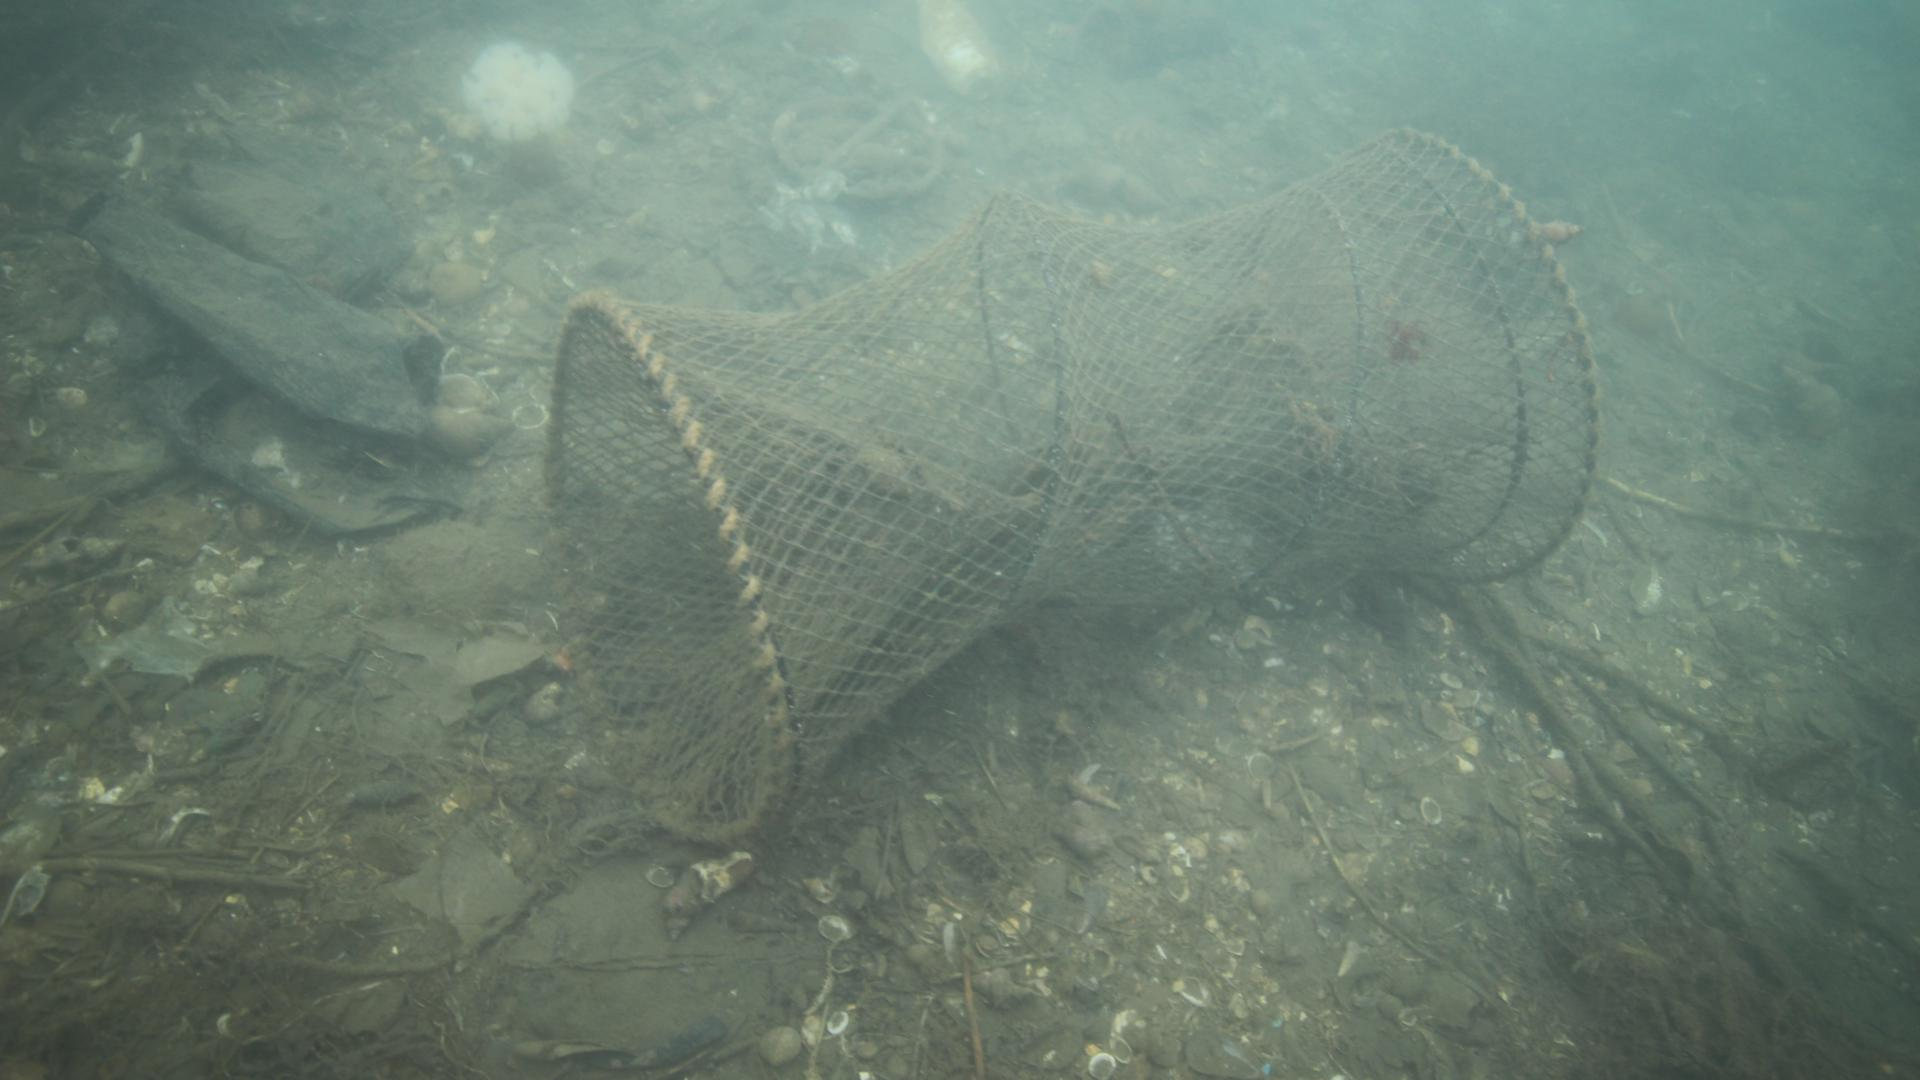spring fish trap: (541, 123, 1604, 848)
